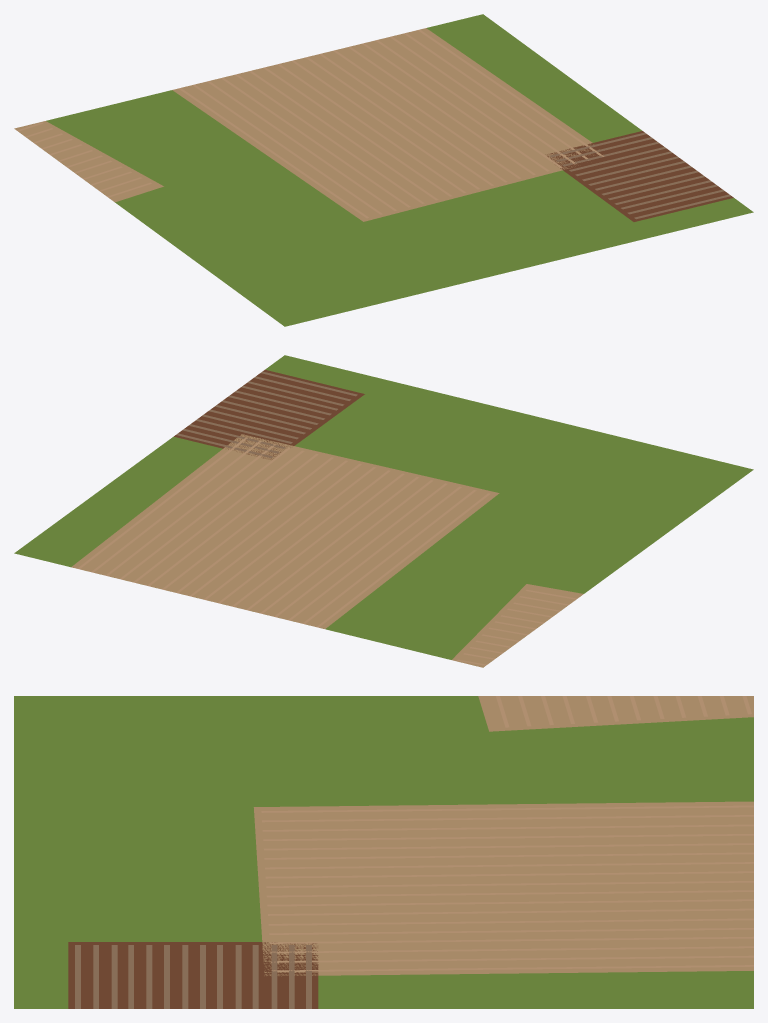
File: crossing-8-7.glb
The picture shows the model from 3 angles, top to bottom: view 1: azimuth 30°, elevation 25°; view 2: azimuth 150°, elevation 25°; view 3: azimuth 270°, elevation 25°; orthographic projection. The views are drawn at different scales.
Parts seen in each view (by area): view 1: crossing-8-7; view 2: crossing-8-7; view 3: crossing-8-7.
Boxes of the visible parts, bbox=[...] form: crossing-8-7: bbox=[14, 14, 753, 326]; crossing-8-7: bbox=[14, 355, 753, 667]; crossing-8-7: bbox=[14, 696, 753, 1008].
Bounding box in the file's own units: 100 × 0.0064 × 100.
